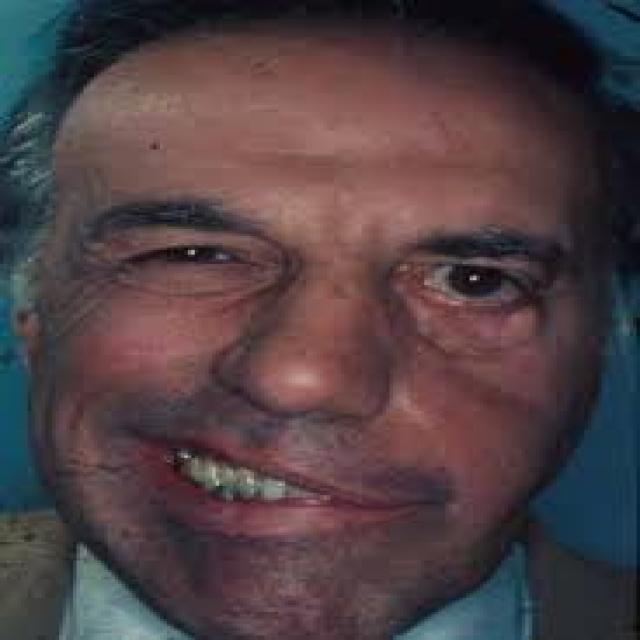stroke_face: (28, 21, 598, 640)
